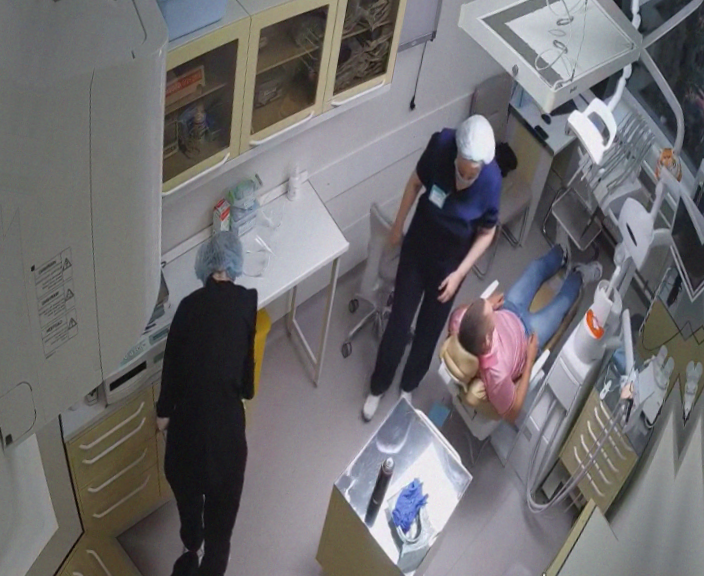Patient: (426, 231, 609, 449)
